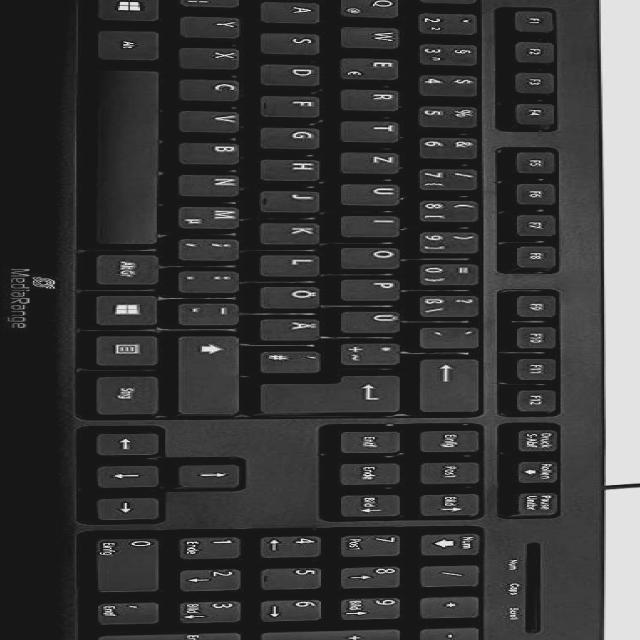0: (421, 259, 489, 284)
1: (420, 0, 486, 6)
2: (420, 9, 486, 33)
3: (419, 40, 487, 64)
4: (422, 71, 488, 94)
5: (421, 102, 488, 126)
6: (421, 134, 488, 158)
7: (422, 165, 488, 189)
8: (421, 196, 489, 220)
9: (421, 227, 489, 252)
a: (265, 0, 331, 21)
accent: (422, 323, 489, 347)
ae: (262, 315, 330, 339)
alt-left: (100, 27, 166, 59)
altgr-right: (99, 250, 167, 284)
b: (183, 139, 250, 163)
c: (183, 76, 250, 100)
caret: (419, 1, 486, 7)
comma: (181, 235, 248, 259)
d: (263, 62, 330, 84)
del: (423, 354, 491, 410)
e: (342, 55, 409, 78)
enter: (260, 372, 409, 412)
f: (263, 93, 330, 116)
g: (263, 124, 330, 147)
h: (263, 155, 330, 179)
hash: (262, 347, 330, 371)
i: (343, 212, 409, 235)
j: (262, 188, 330, 211)
k: (263, 220, 330, 244)
keyboard: (6, 0, 612, 640)
l: (263, 251, 330, 275)
less: (182, 1, 250, 7)
m: (181, 203, 248, 227)
minus: (181, 299, 248, 323)
n: (182, 171, 250, 195)
o: (342, 243, 409, 267)
oe: (262, 283, 330, 307)
p: (343, 275, 409, 299)
plus: (343, 339, 409, 363)
point: (183, 267, 249, 291)
q: (342, 0, 408, 16)
r: (343, 86, 409, 109)
s: (263, 30, 329, 53)
shift-left: (183, 1, 249, 11)
shift-lock: (263, 0, 330, 18)
shift-right: (181, 332, 248, 414)
space: (96, 67, 170, 245)
ss: (422, 290, 489, 315)
strg-left: (101, 0, 169, 15)
strg-right: (98, 371, 168, 415)
t: (343, 118, 409, 140)
tab: (342, 0, 409, 14)
u: (342, 180, 409, 204)
ue: (342, 308, 409, 332)
v: (183, 108, 250, 131)
w: (343, 24, 409, 47)
x: (183, 45, 250, 68)
y: (183, 14, 250, 36)
z: (343, 150, 409, 172)
